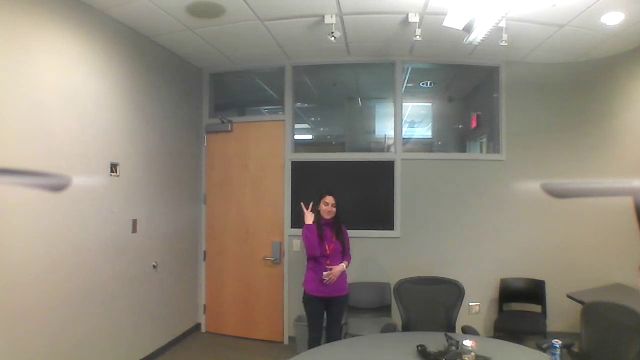peace: (298, 199, 322, 232)
